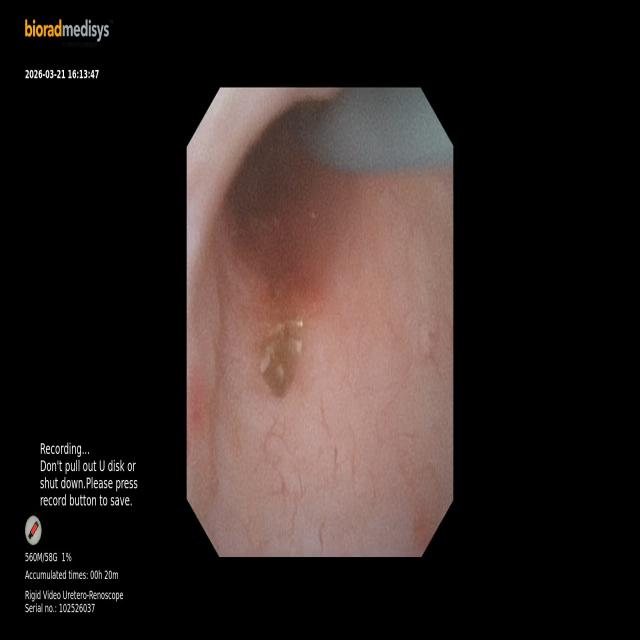stone-new: (260, 318, 303, 396)
